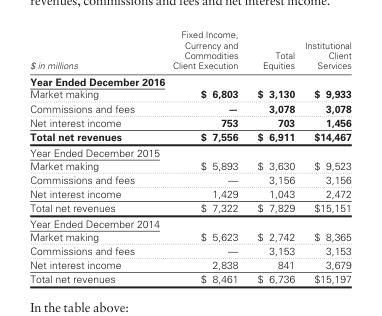table: (29, 28, 350, 284)
table column: (29, 28, 153, 284), (153, 28, 247, 284), (247, 28, 299, 284), (299, 28, 350, 284)
table column header: (29, 28, 350, 72)
table projected row header: (29, 72, 350, 87), (29, 144, 350, 158), (29, 215, 350, 229)
table row: (29, 28, 350, 72), (29, 72, 350, 87), (29, 100, 350, 115), (29, 129, 350, 144), (29, 171, 350, 186), (29, 200, 350, 215), (29, 115, 350, 129), (29, 144, 350, 158), (29, 186, 350, 200), (29, 215, 350, 229), (29, 229, 350, 243), (29, 243, 350, 257), (29, 257, 350, 271), (29, 87, 350, 100), (29, 158, 350, 171), (29, 271, 350, 284)
